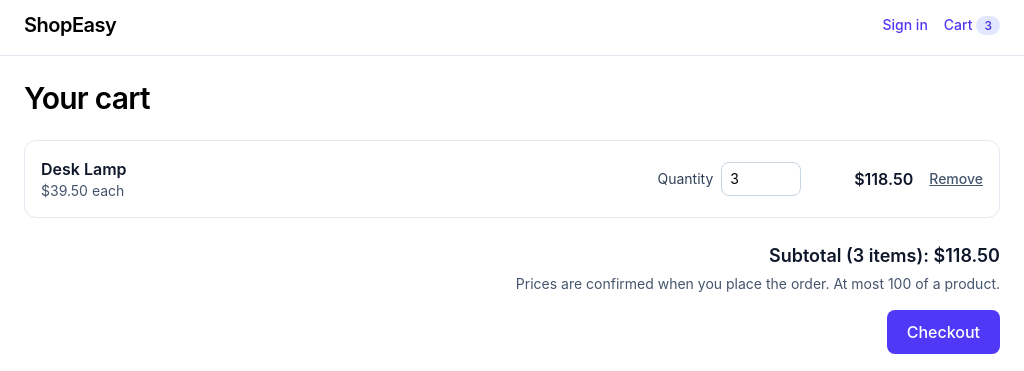
CartPage › leaves a half-written number alone while typing, and puts the quantity back when the field is left
This screenshot has width=1024, height=371.
Clear the number field named "Quantity of Desk Lamp" at (761, 179), box [721,162,801,196]
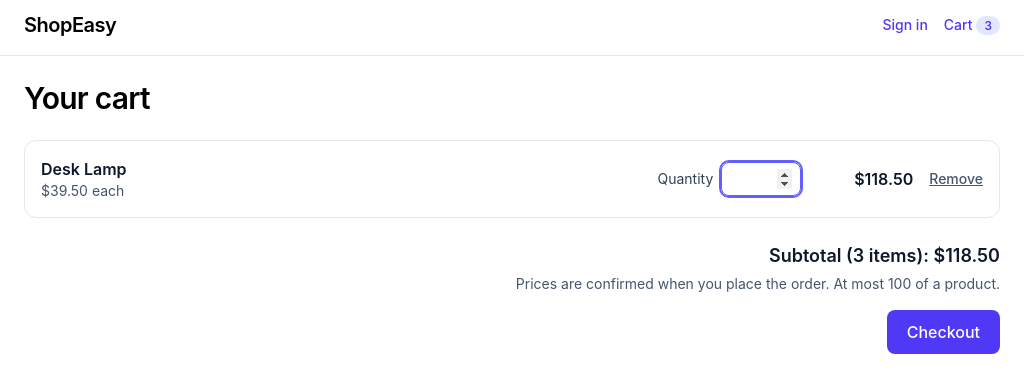
Type "0" into the number field named "Quantity of Desk Lamp" at (761, 179), box [721,162,801,196]
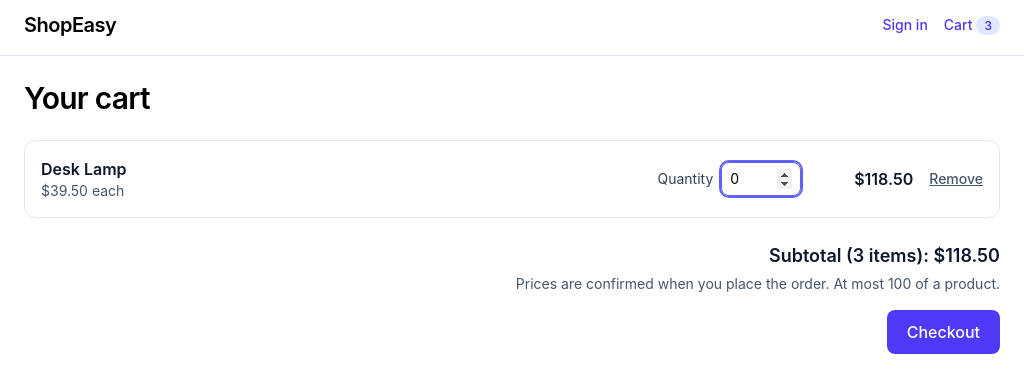
Press Tab
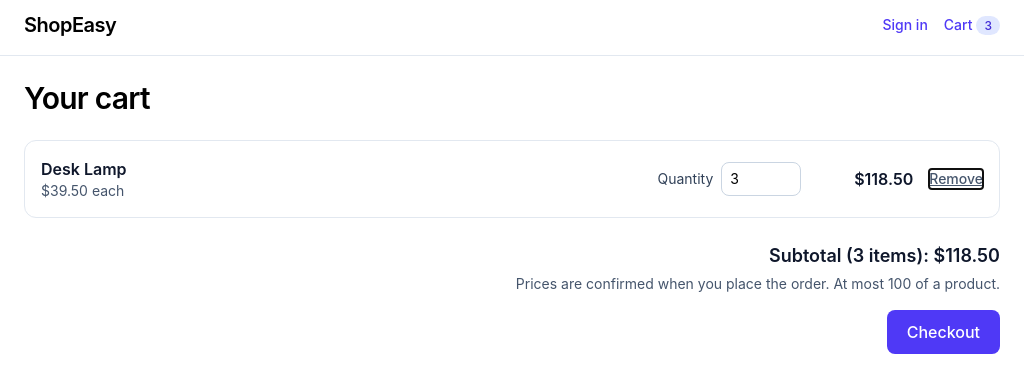
Now the number field named "Quantity of Desk Lamp" holds "3", box [721,162,801,196]
